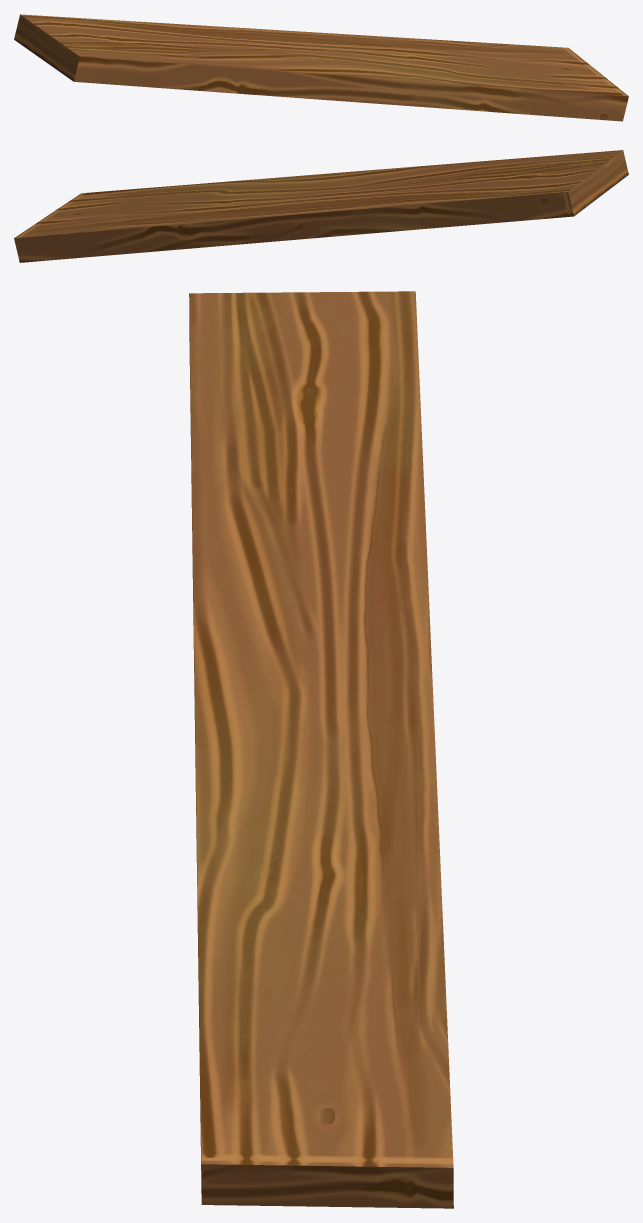
3 renders of one model, top to bottom at view 1: azimuth 30°, elevation 25°; view 2: azimuth 150°, elevation 25°; view 3: azimuth 270°, elevation 25°, orthographic. The views are drawn at different scales.
Visible parts, largest first — view 1: Cube.1155; view 2: Cube.1155; view 3: Cube.1155.
Part boxes in pixels (x1,y1,x2,y2): Cube.1155: [14, 14, 628, 121]; Cube.1155: [14, 150, 628, 262]; Cube.1155: [189, 291, 453, 1208].
Bounding box in the file's own units: 239 × 81.15 × 49.71.
Materials: 1 (1 with a texture image).
